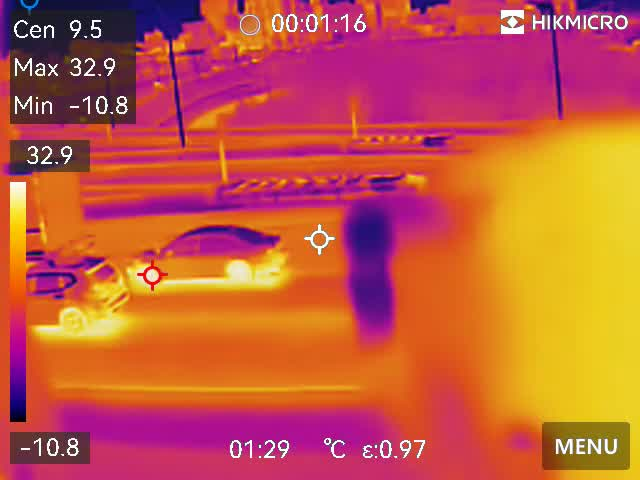largeCar: (13, 265, 134, 328)
smallCar: (128, 228, 307, 288)
